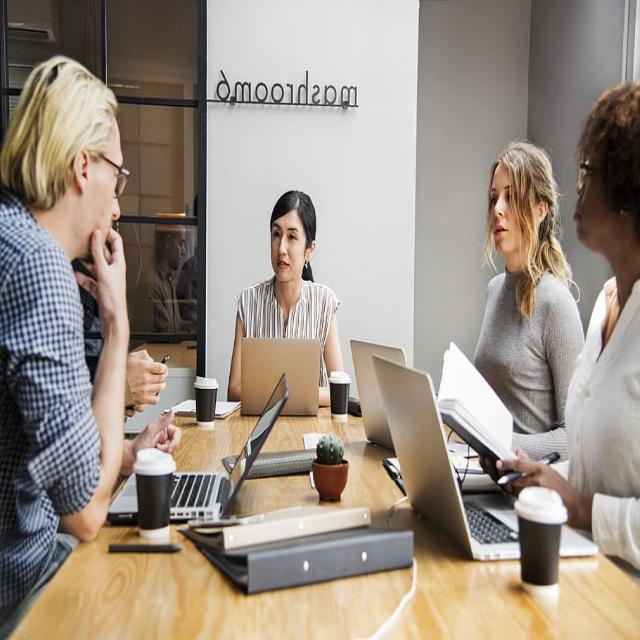adult: (0, 53, 133, 618), (495, 82, 640, 570), (470, 141, 585, 468), (226, 188, 344, 412)
